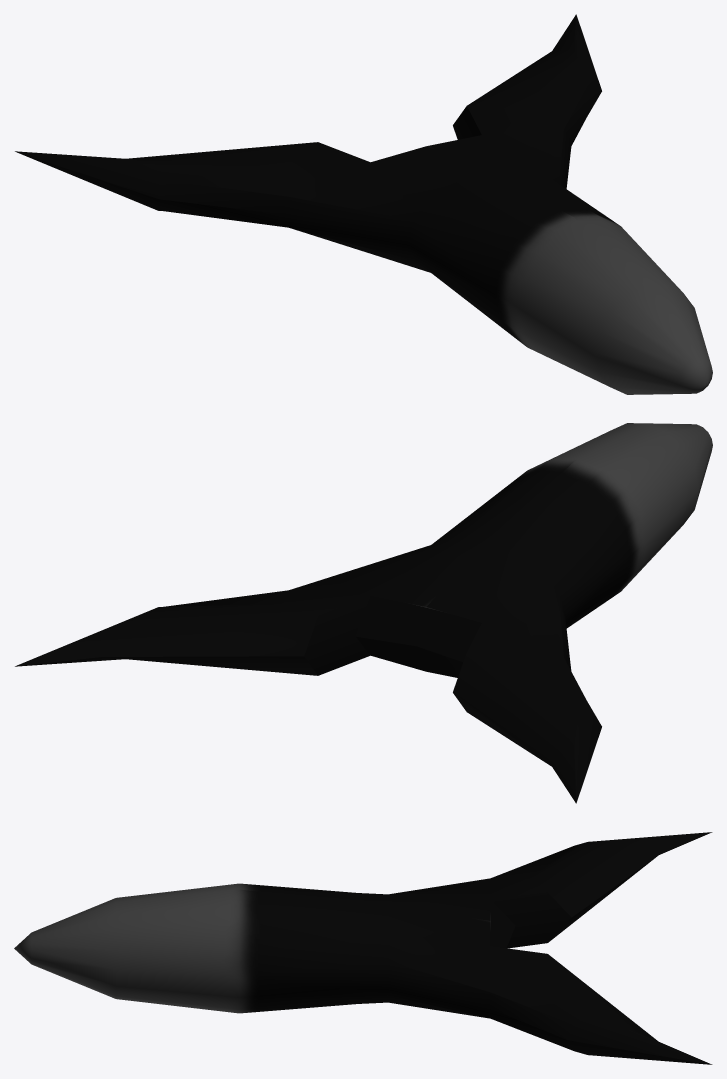
File: rocket.fbx
3 renders of one model, top to bottom at view 1: azimuth 30°, elevation 25°; view 2: azimuth 150°, elevation 25°; view 3: azimuth 270°, elevation 25°, orthographic. The views are drawn at different scales.
Visible parts, largest first — view 1: Cylinder; view 2: Cylinder; view 3: Cylinder.
Boxes of the visible parts, bbox=[...] form: Cylinder: bbox=[15, 14, 712, 394]; Cylinder: bbox=[15, 423, 712, 803]; Cylinder: bbox=[14, 832, 712, 1064].
Size of the model in its own units: 478 by 113 by 607.
1 material, 1 textured.
